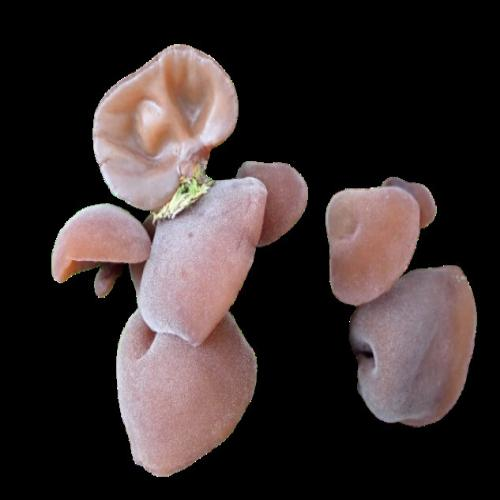Wood Ear Mushroom: (60, 23, 263, 224), (128, 156, 273, 354), (341, 262, 489, 433), (116, 309, 257, 477), (327, 187, 419, 305), (39, 194, 155, 283), (233, 147, 319, 246)
